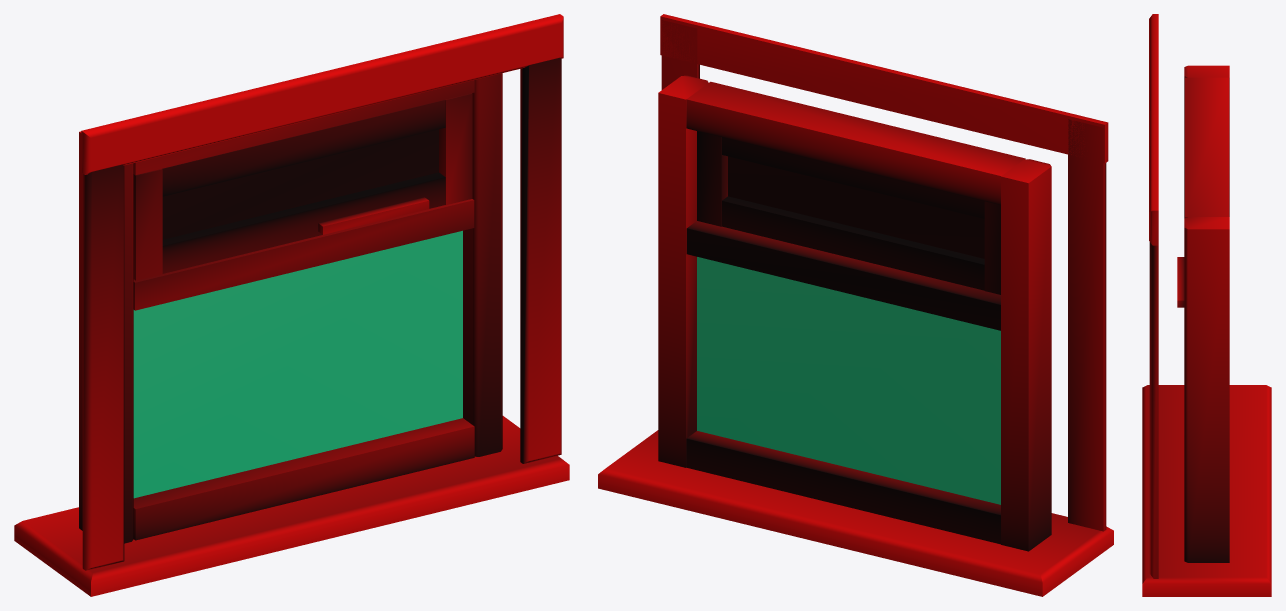
File: CI_Shell_Window_Frosted.glb
3 views of the same model, side by side, from view 1: azimuth 30°, elevation 25°; view 2: azimuth 150°, elevation 25°; view 3: azimuth 270°, elevation 25° (orthographic). The views are drawn at different scales.
Parts seen in each view (by area): view 1: CI_Shell_Window_Frosted; view 2: CI_Shell_Window_Frosted; view 3: CI_Shell_Window_Frosted.
Part boxes in pixels (x1,y1,x2,y2): CI_Shell_Window_Frosted: (14,14,569,596); CI_Shell_Window_Frosted: (598,14,1113,596); CI_Shell_Window_Frosted: (1142,14,1271,596).
Bounding box in the file's own units: 0.72 × 0.66 × 0.2.
